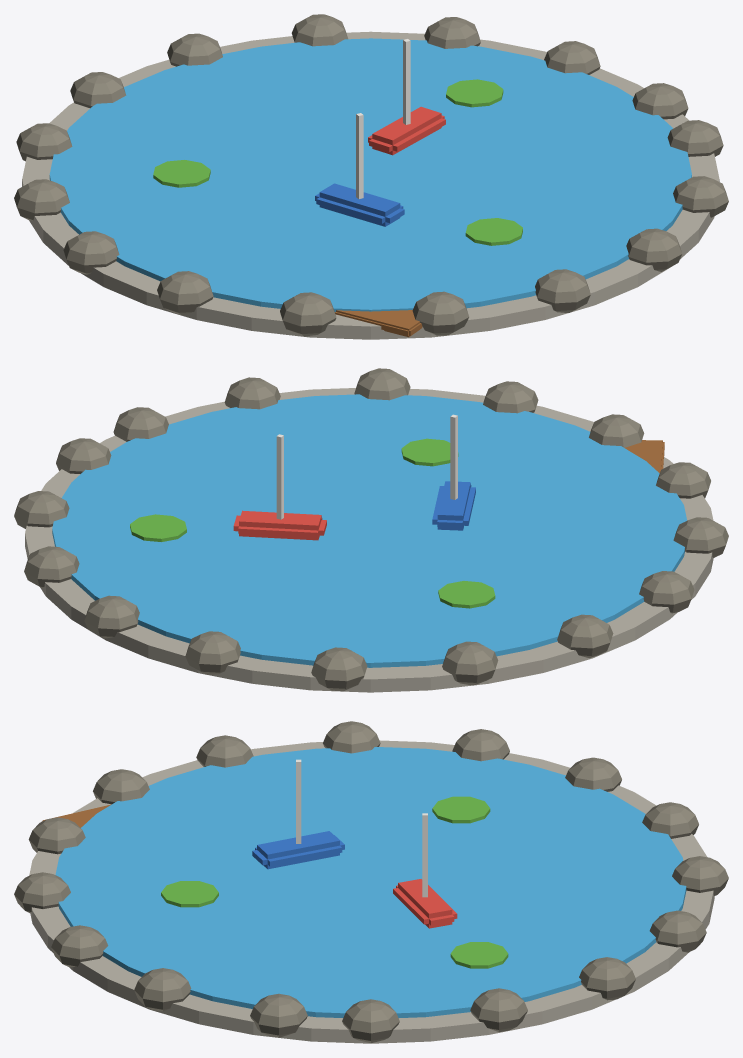
File: lake.glb
The picture shows the model from 3 angles, top to bottom: view 1: azimuth 30°, elevation 25°; view 2: azimuth 150°, elevation 25°; view 3: azimuth 270°, elevation 25°; orthographic projection.
Visible parts, largest first — view 1: lake; view 2: lake; view 3: lake.
Boxes of the visible parts, x1,y1,x2,y2 form: lake: (14,14,728,339); lake: (14,368,728,692); lake: (14,721,728,1043).
Bounding box in the file's own units: 3.96 × 0.712 × 3.95.
